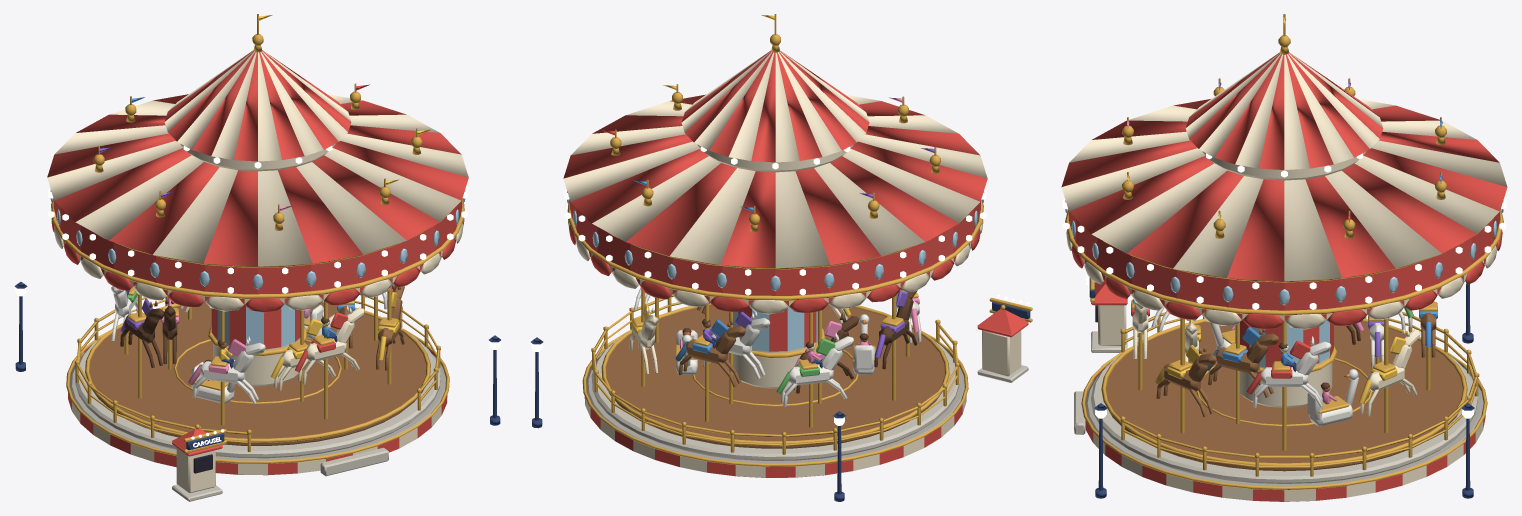
File: carousel.glb
The picture shows the model from 3 angles, left to right: view 1: azimuth 30°, elevation 25°; view 2: azimuth 150°, elevation 25°; view 3: azimuth 270°, elevation 25°; orthographic projection. The views are drawn at different scales.
Parts seen in each view (by area): view 1: spin_pw_cream_canvas, spin_pw_red_canvas, spin_pw_wood, spin_pw_gold_brass, spin_pw_red_paint, base_pw_stone, base_pw_gold_brass, spin_pw_accent_paint, spin_pw_cream_paint, spin_pw_white_paint, base_pw_cream_paint, spin_pw_glass_mirror (+8 smaller); view 2: spin_pw_red_canvas, spin_pw_cream_canvas, spin_pw_wood, spin_pw_gold_brass, base_pw_gold_brass, spin_pw_red_paint, base_pw_stone, spin_pw_accent_paint, spin_pw_white_paint, base_pw_cream_paint, spin_pw_cream_paint, base_pw_red_paint (+8 smaller); view 3: spin_pw_red_canvas, spin_pw_cream_canvas, spin_pw_wood, spin_pw_gold_brass, spin_pw_red_paint, base_pw_stone, base_pw_gold_brass, spin_pw_cream_paint, spin_pw_accent_paint, base_pw_cream_paint, spin_pw_white_paint, spin_pw_wood_paint (+7 smaller).
Boxes of the visible parts, x1,y1,x2,y2 form: spin_pw_cream_canvas: (47, 50, 468, 311); spin_pw_red_canvas: (47, 50, 468, 312); spin_pw_wood: (89, 302, 426, 445); spin_pw_gold_brass: (51, 14, 464, 442); spin_pw_red_paint: (53, 199, 455, 372); base_pw_stone: (75, 333, 440, 501); base_pw_gold_brass: (66, 293, 449, 463); spin_pw_accent_paint: (60, 199, 462, 294); spin_pw_cream_paint: (180, 144, 364, 391); spin_pw_white_paint: (111, 286, 387, 404); base_pw_cream_paint: (72, 343, 447, 493); spin_pw_glass_mirror: (50, 190, 465, 346); spin_pw_red_canvas: (563, 51, 987, 313); spin_pw_cream_canvas: (563, 50, 987, 314); spin_pw_wood: (606, 305, 944, 448); spin_pw_gold_brass: (567, 14, 983, 443); base_pw_gold_brass: (582, 294, 1032, 466); spin_pw_red_paint: (570, 201, 973, 351); base_pw_stone: (591, 335, 1028, 460); spin_pw_accent_paint: (577, 201, 980, 295); spin_pw_white_paint: (634, 287, 921, 406); base_pw_cream_paint: (585, 330, 1021, 477); spin_pw_cream_paint: (629, 144, 853, 388); base_pw_red_paint: (584, 309, 1028, 477); spin_pw_red_canvas: (1061, 52, 1507, 329); spin_pw_cream_canvas: (1061, 52, 1507, 329); spin_pw_wood: (1106, 321, 1462, 471); spin_pw_gold_brass: (1065, 14, 1503, 465); spin_pw_red_paint: (1068, 211, 1492, 394); base_pw_stone: (1074, 331, 1477, 483); base_pw_gold_brass: (1081, 278, 1487, 490); spin_pw_cream_paint: (1132, 151, 1420, 416); spin_pw_accent_paint: (1076, 211, 1500, 310); base_pw_cream_paint: (1085, 305, 1483, 501); spin_pw_white_paint: (1151, 306, 1412, 426); spin_pw_wood_paint: (1156, 301, 1436, 417).
Bounding box in the file's own units: 3.16 × 3.16 × 3.16.
